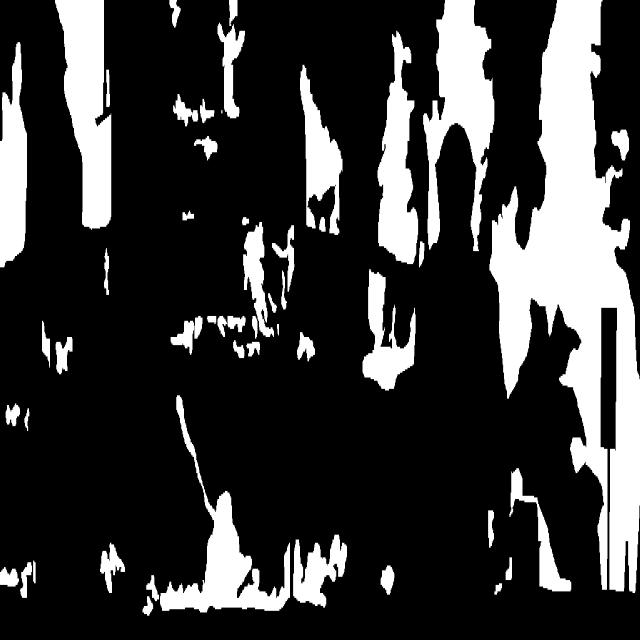fire: (4, 0, 640, 585)
